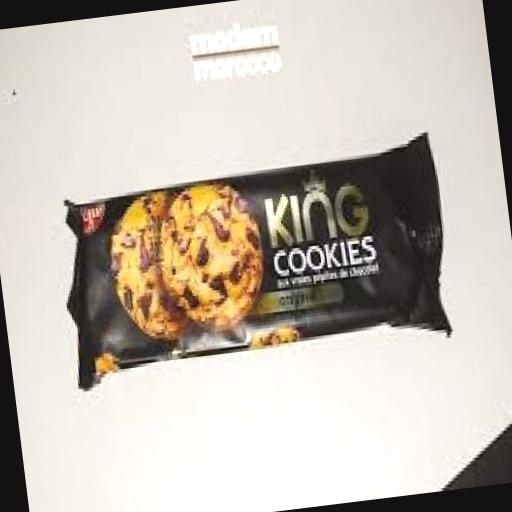king_cooking: (28, 96, 502, 426)
